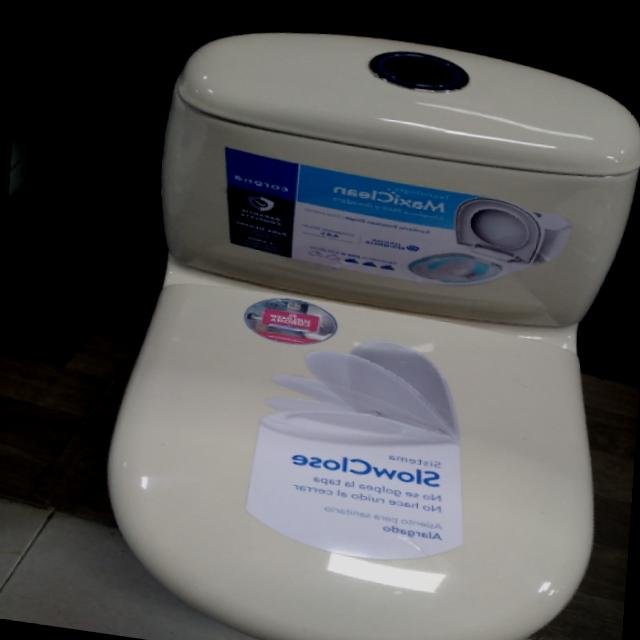toilet: (95, 6, 640, 640)
